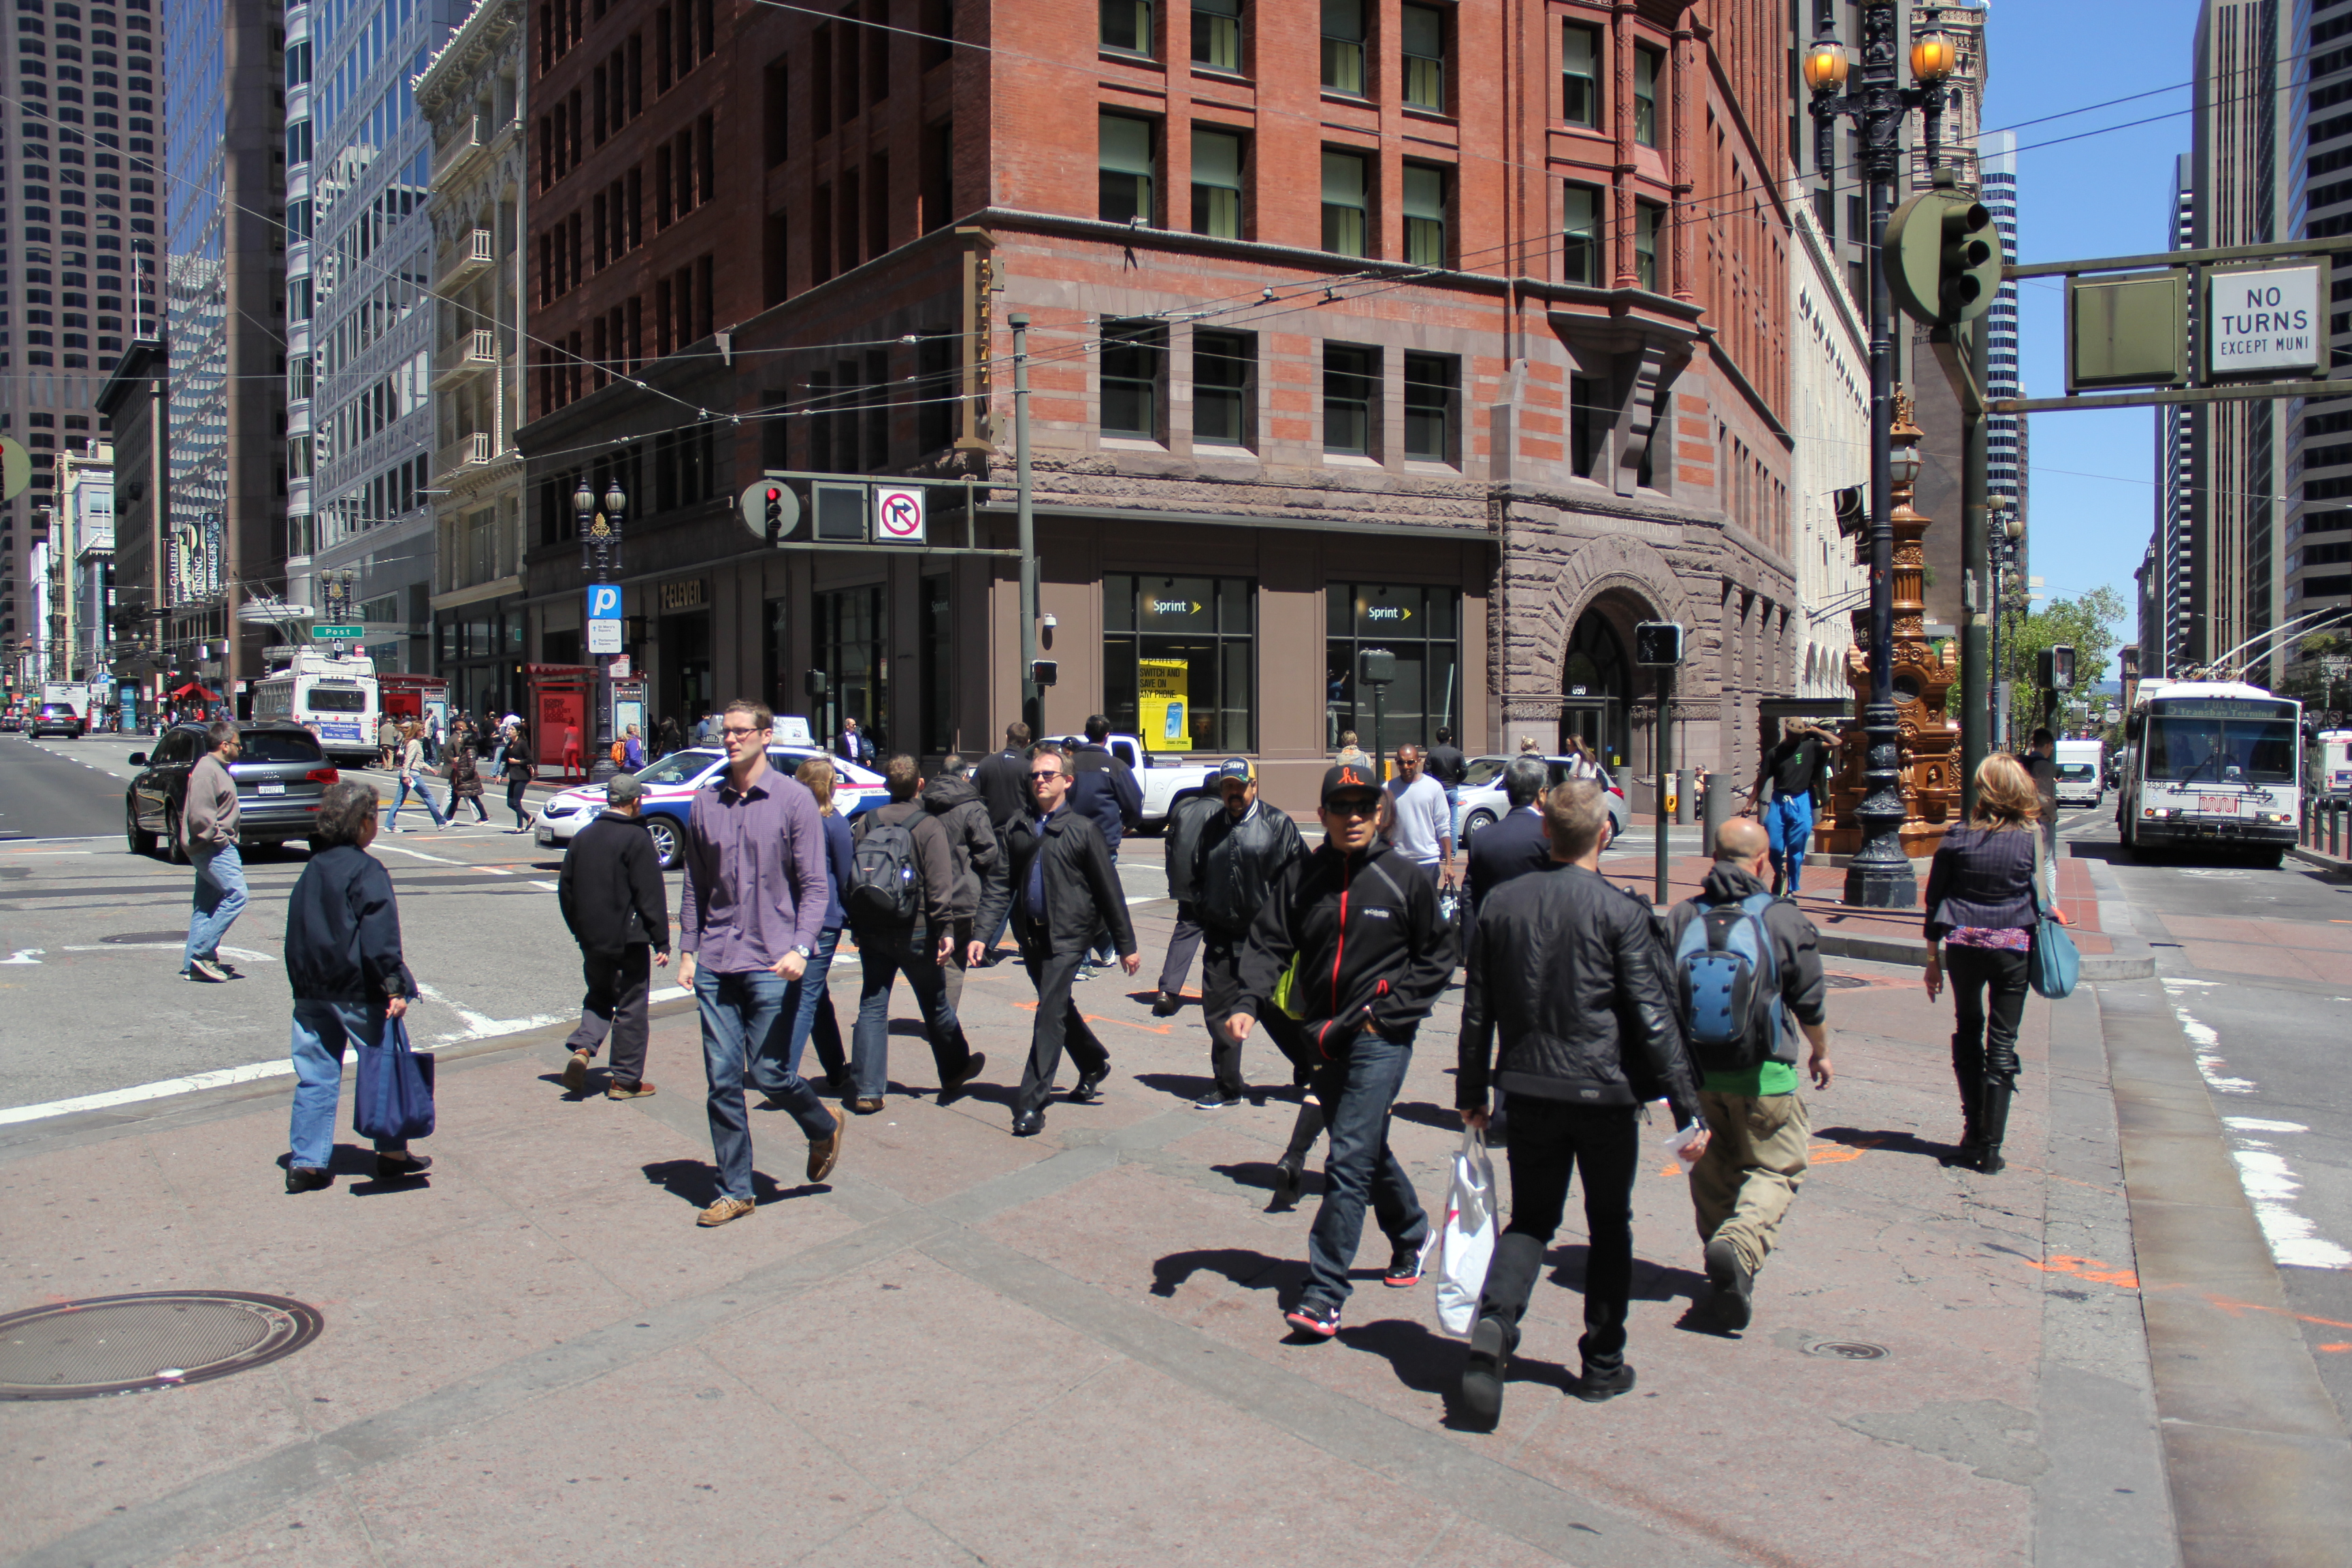pedestrian: (1431, 763, 1674, 1443), (1280, 755, 1455, 1356), (1647, 806, 1840, 1346), (663, 704, 850, 1225), (1897, 732, 2082, 1171), (952, 743, 1137, 1137), (276, 783, 446, 1191), (1178, 760, 1324, 1106), (541, 766, 677, 1108), (169, 719, 259, 981)
